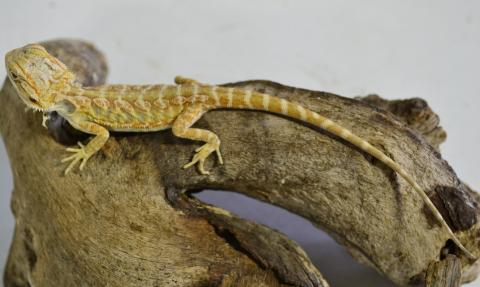bearded: (4, 40, 476, 264)
